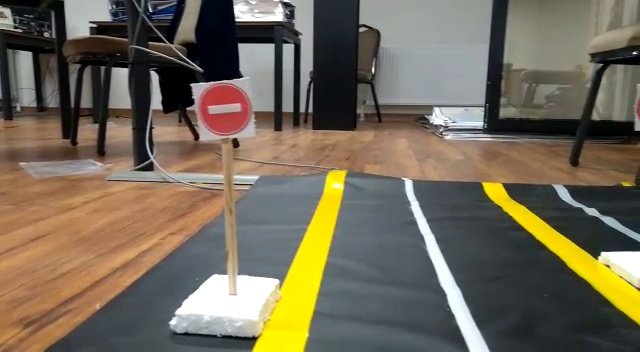girisi_olmayan_yol: (190, 82, 252, 137)
